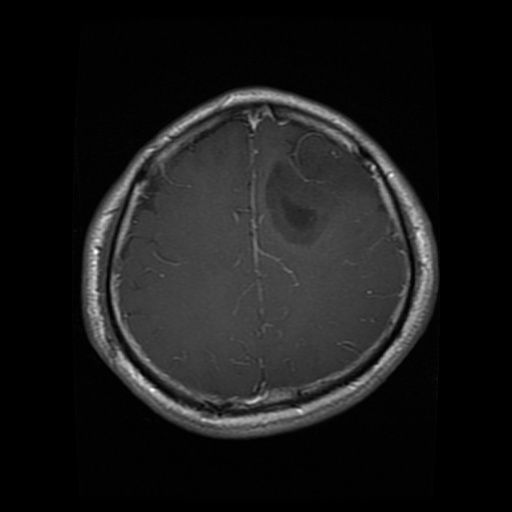glioma: (265, 131, 373, 247)
